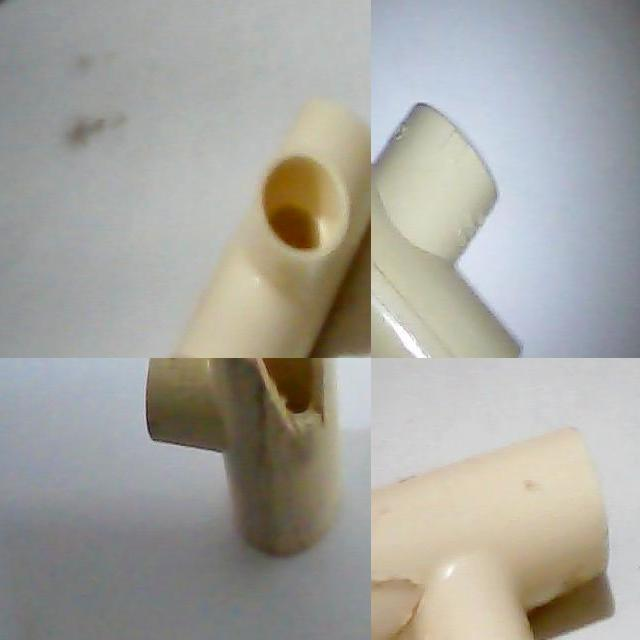Defective: (254, 358, 338, 441), (245, 358, 330, 418), (371, 565, 427, 640)
T Joint: (170, 98, 371, 358), (371, 428, 609, 640), (146, 358, 345, 561), (371, 104, 523, 358)
